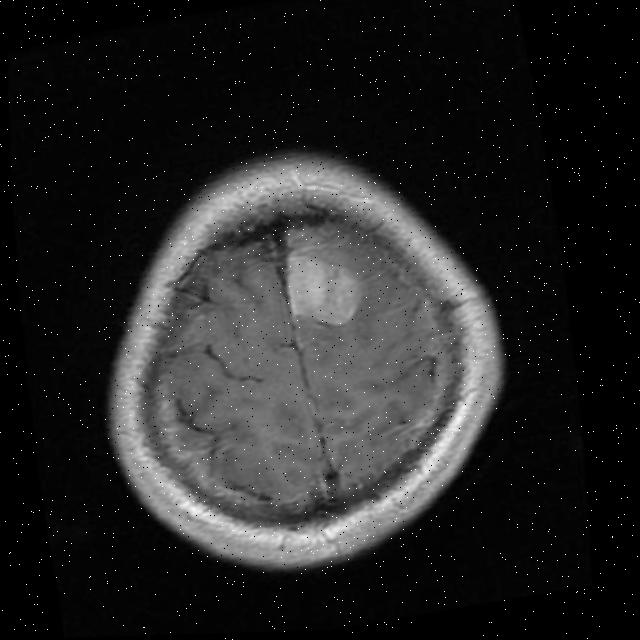Meningioma: (283, 239, 374, 333)
